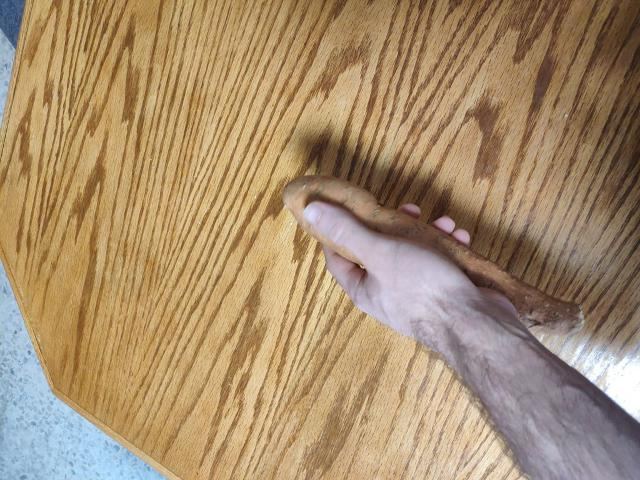sweet_potato: (279, 166, 599, 341)
